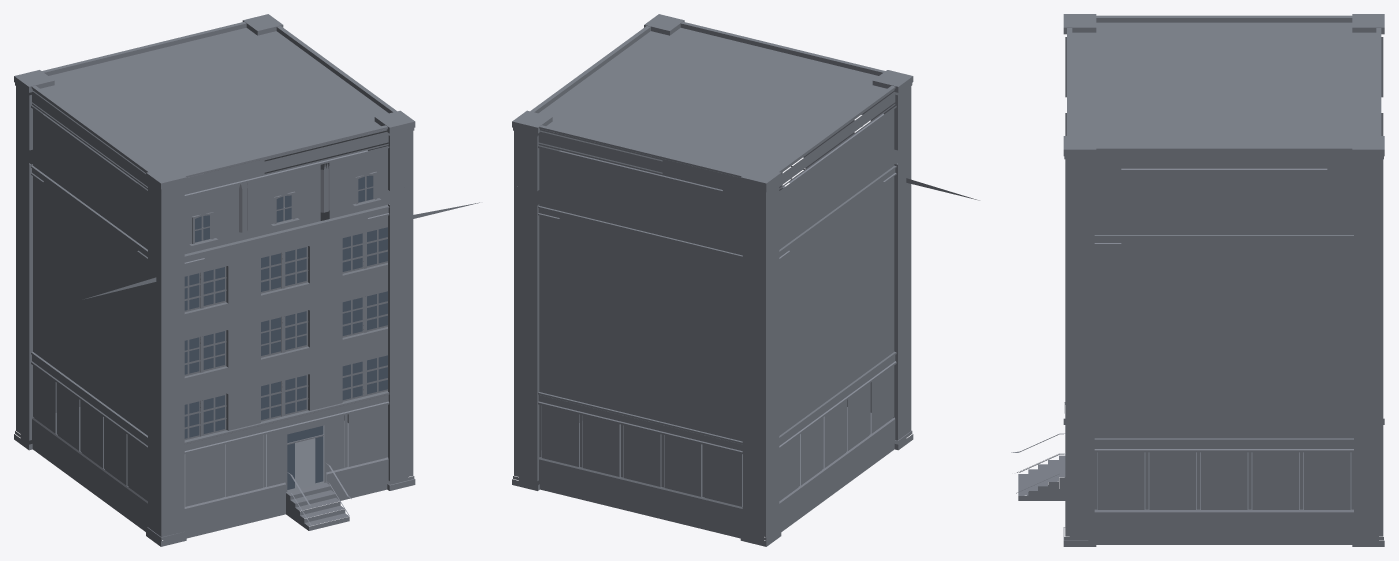
File: env_building_small_1.glb
The picture shows the model from 3 angles, left to right: view 1: azimuth 30°, elevation 25°; view 2: azimuth 150°, elevation 25°; view 3: azimuth 270°, elevation 25°; orthographic projection. The views are drawn at different scales.
Parts seen in each view (by area): view 1: part_0, part_1; view 2: part_0; view 3: part_0.
Part boxes in pixels (x1,y1,x2,y2): part_0: (14, 14, 479, 546); part_1: (184, 175, 387, 489); part_0: (512, 14, 979, 546); part_0: (1011, 14, 1384, 546).
Bounding box in the file's own units: 19.74 × 17.01 × 14.54.
